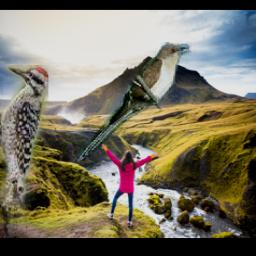Cuckoo: (73, 43, 191, 167)
Woodpecker: (0, 65, 49, 236)
